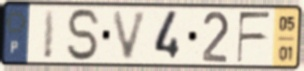2: (201, 9, 231, 64)
4: (151, 8, 185, 64)
F: (236, 10, 273, 65)
I: (41, 8, 57, 62)
S: (65, 7, 103, 64)
V: (110, 9, 150, 62)
